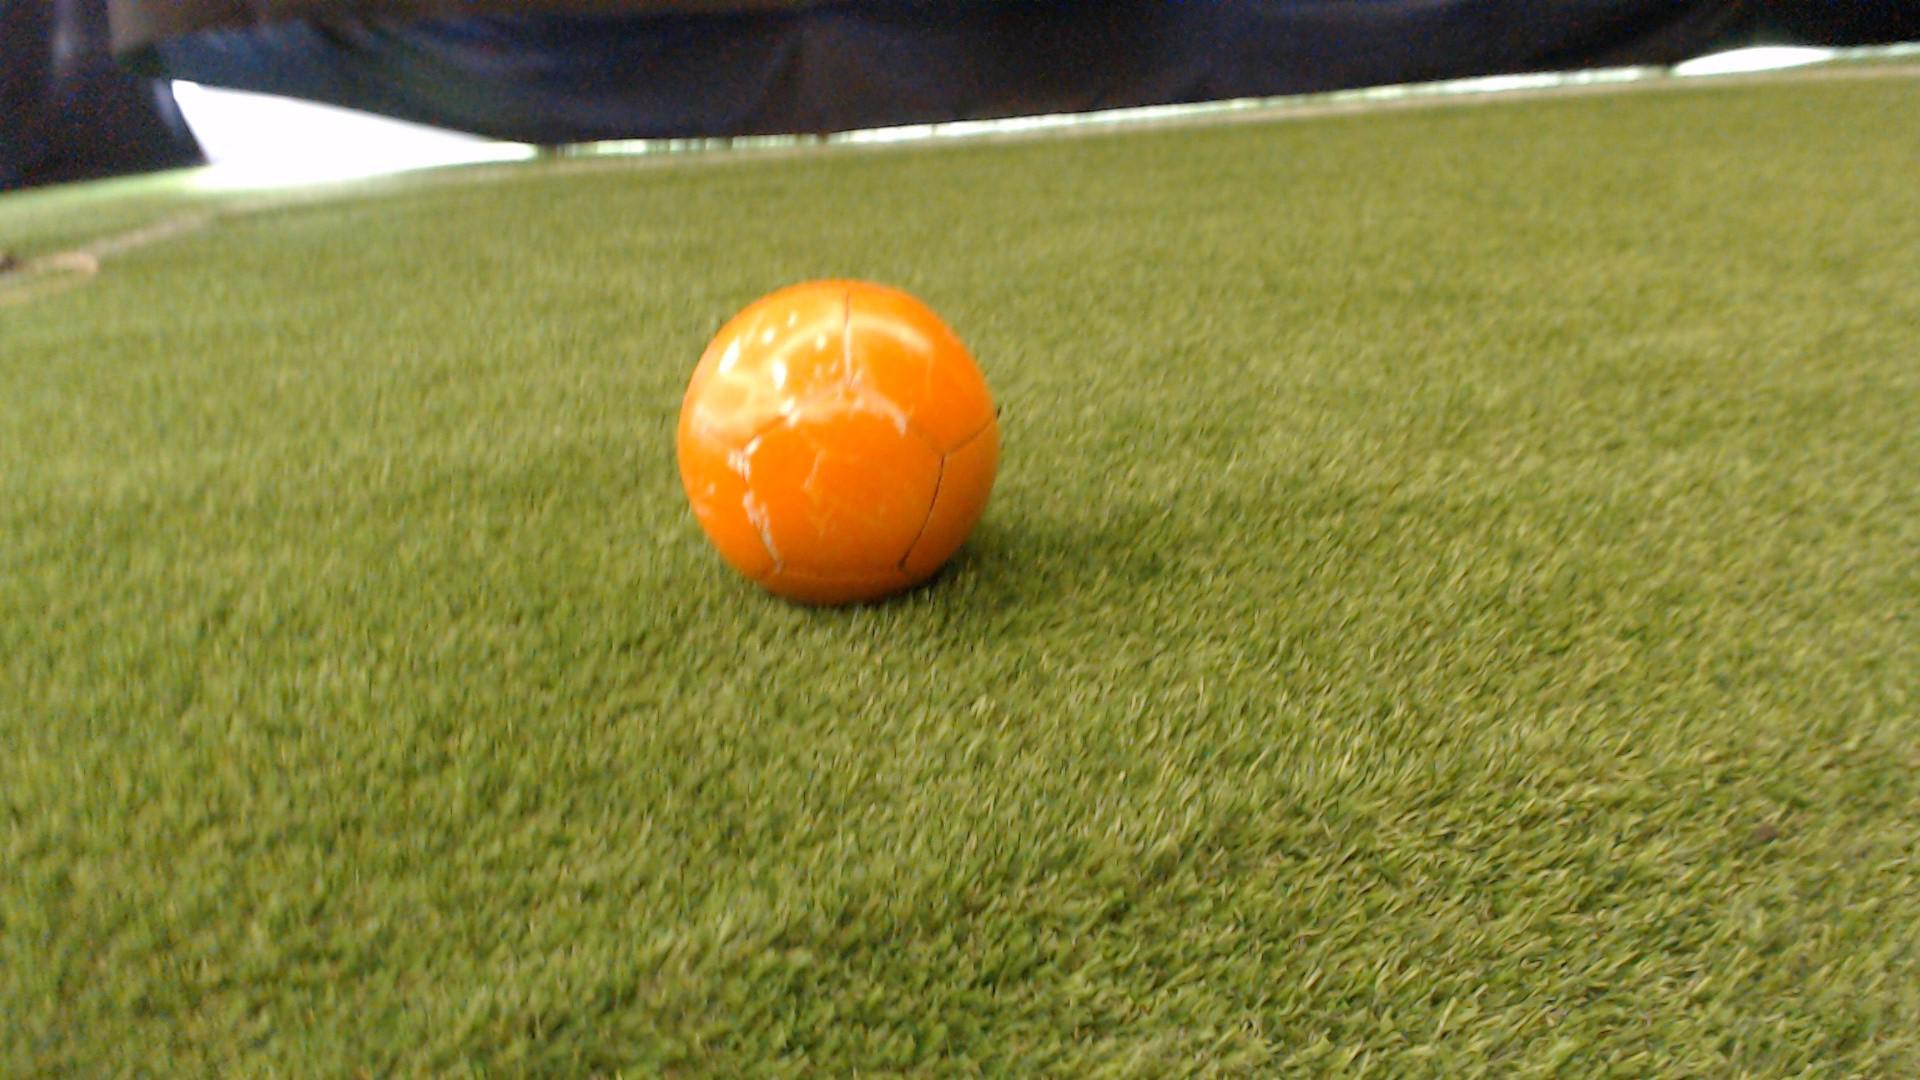bola: (654, 265, 1040, 621)
